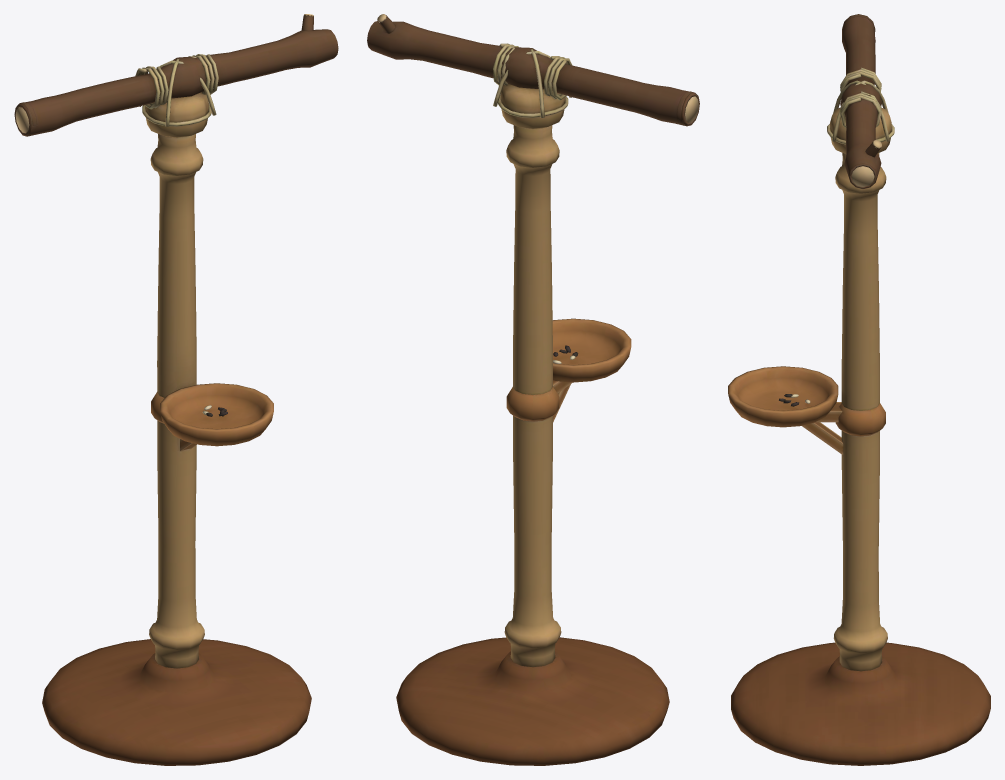
Rendered from perch.glb.
The picture shows the model from 3 angles, left to right: view 1: azimuth 30°, elevation 25°; view 2: azimuth 150°, elevation 25°; view 3: azimuth 270°, elevation 25°; orthographic projection. The views are drawn at different scales.
Parts seen in each view (by area): view 1: Perch; view 2: Perch; view 3: Perch.
Boxes of the visible parts, box(x1,y1,x2,y2) form: Perch: box(14, 14, 338, 765); Perch: box(367, 14, 699, 765); Perch: box(728, 14, 990, 765).
Bounding box in the file's own units: 0.2112 × 0.4292 × 0.1592.
Materials: 1 (1 with a texture image).
